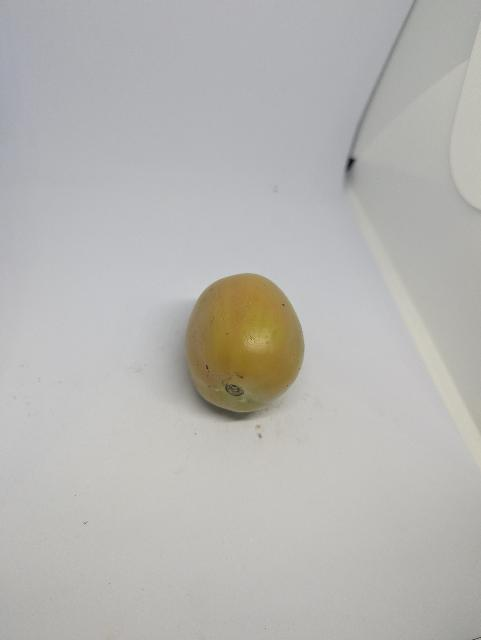breaker: (183, 273, 310, 417)
